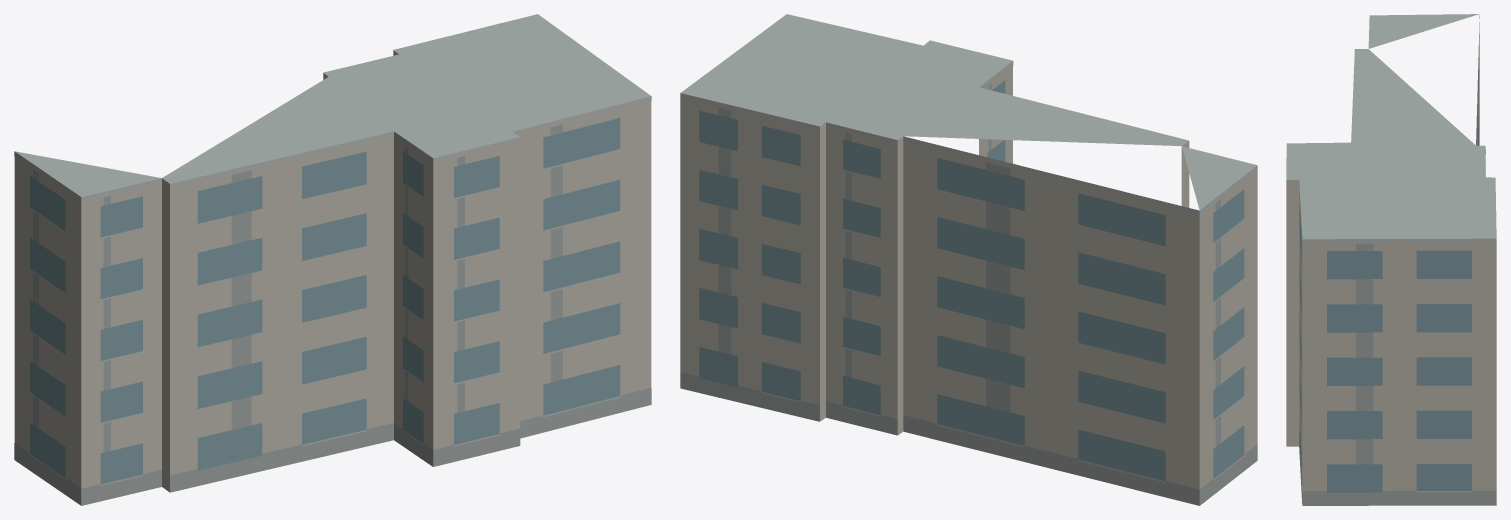
The model's file is survey-upis-32916189.glb.
3 views of the same model, side by side, from view 1: azimuth 30°, elevation 25°; view 2: azimuth 150°, elevation 25°; view 3: azimuth 270°, elevation 25° (orthographic). The views are drawn at different scales.
Visible parts, largest first — view 1: survey-upis-32916189.tmp; view 2: survey-upis-32916189.tmp; view 3: survey-upis-32916189.tmp.
Part boxes in pixels (<box>): survey-upis-32916189.tmp: <box>14,14,651,505</box>; survey-upis-32916189.tmp: <box>680,14,1257,505</box>; survey-upis-32916189.tmp: <box>1286,14,1496,505</box>.
Bounding box in the file's own units: 24.82 × 13.7 × 9.81.
